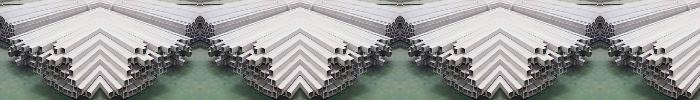pipe: (327, 57, 332, 64), (324, 79, 329, 86), (323, 91, 328, 98), (335, 71, 340, 78), (309, 91, 314, 98), (268, 57, 273, 64), (468, 57, 473, 64), (127, 57, 132, 64), (527, 57, 532, 64), (68, 57, 73, 64), (668, 57, 673, 64), (271, 79, 276, 86), (471, 79, 476, 86), (124, 79, 129, 86), (524, 79, 529, 86), (71, 79, 76, 86), (671, 79, 676, 86), (272, 91, 277, 98), (472, 91, 477, 98), (123, 91, 128, 98), (523, 91, 528, 98), (72, 91, 77, 98), (672, 91, 677, 98), (260, 71, 265, 78), (460, 71, 465, 78), (135, 71, 140, 78), (535, 71, 540, 78), (60, 71, 65, 78), (660, 71, 665, 78), (286, 91, 291, 98), (486, 91, 491, 98), (109, 91, 114, 98), (509, 91, 514, 98), (86, 91, 91, 98), (686, 91, 691, 98), (319, 87, 323, 95), (277, 87, 281, 95), (477, 87, 481, 95), (119, 87, 123, 95), (519, 87, 523, 95), (77, 87, 81, 95), (677, 87, 681, 95), (335, 47, 339, 54), (345, 59, 349, 66), (327, 70, 331, 77), (329, 78, 333, 85), (328, 90, 332, 97), (338, 85, 342, 92), (261, 47, 265, 54), (461, 47, 465, 54), (135, 47, 139, 54), (535, 47, 539, 54), (61, 47, 65, 54), (661, 47, 665, 54), (251, 59, 255, 66), (451, 59, 455, 66), (145, 59, 149, 66), (545, 59, 549, 66), (51, 59, 55, 66), (651, 59, 655, 66), (269, 70, 273, 77), (469, 70, 473, 77), (127, 70, 131, 77), (527, 70, 531, 77), (69, 70, 73, 77), (669, 70, 673, 77), (267, 78, 271, 85), (467, 78, 471, 85), (129, 78, 133, 85), (529, 78, 533, 85), (67, 78, 71, 85), (667, 78, 671, 85), (268, 90, 272, 97), (468, 90, 472, 97), (128, 90, 132, 97), (528, 90, 532, 97), (68, 90, 72, 97), (668, 90, 672, 97), (258, 85, 262, 92), (458, 85, 462, 92), (138, 85, 142, 92), (538, 85, 542, 92), (58, 85, 62, 92), (658, 85, 662, 92), (333, 57, 337, 63), (328, 65, 332, 71), (323, 86, 327, 92), (333, 88, 337, 94), (342, 83, 346, 89), (349, 79, 353, 85), (343, 74, 347, 80), (344, 45, 348, 51), (350, 59, 354, 65), (263, 57, 267, 63), (463, 57, 467, 63), (133, 57, 137, 63), (533, 57, 537, 63), (63, 57, 67, 63), (663, 57, 667, 63), (268, 65, 272, 71), (468, 65, 472, 71), (128, 65, 132, 71), (528, 65, 532, 71), (68, 65, 72, 71), (668, 65, 672, 71), (273, 86, 277, 92), (473, 86, 477, 92), (123, 86, 127, 92), (523, 86, 527, 92), (73, 86, 77, 92), (673, 86, 677, 92), (263, 88, 267, 94), (463, 88, 467, 94), (133, 88, 137, 94), (533, 88, 537, 94), (63, 88, 67, 94), (663, 88, 667, 94), (254, 83, 258, 89), (454, 83, 458, 89), (142, 83, 146, 89), (542, 83, 546, 89), (54, 83, 58, 89), (654, 83, 658, 89), (247, 79, 251, 85), (447, 79, 451, 85), (149, 79, 153, 85), (549, 79, 553, 85), (47, 79, 51, 85), (647, 79, 651, 85), (253, 74, 257, 80), (453, 74, 457, 80), (143, 74, 147, 80), (543, 74, 547, 80), (53, 74, 57, 80), (653, 74, 657, 80), (252, 45, 256, 51), (452, 45, 456, 51), (144, 45, 148, 51), (544, 45, 548, 51), (52, 45, 56, 51), (652, 45, 656, 51), (246, 59, 250, 65), (446, 59, 450, 65), (150, 59, 154, 65), (550, 59, 554, 65), (46, 59, 50, 65), (646, 59, 650, 65), (339, 68, 342, 75), (358, 56, 361, 63), (364, 55, 367, 62), (258, 68, 261, 75), (458, 68, 461, 75), (139, 68, 142, 75), (539, 68, 542, 75), (58, 68, 61, 75), (658, 68, 661, 75), (239, 56, 242, 63), (439, 56, 442, 63), (158, 56, 161, 63), (558, 56, 561, 63), (39, 56, 42, 63), (639, 56, 642, 63), (233, 55, 236, 62), (433, 55, 436, 62), (164, 55, 167, 62), (564, 55, 567, 62), (33, 55, 36, 62), (633, 55, 636, 62), (349, 65, 353, 70), (247, 65, 251, 70), (447, 65, 451, 70), (149, 65, 153, 70), (549, 65, 553, 70), (47, 65, 51, 70), (647, 65, 651, 70), (342, 67, 345, 73), (346, 65, 349, 71), (346, 70, 349, 76), (351, 70, 354, 76), (353, 77, 356, 83), (358, 46, 361, 52), (359, 62, 362, 68), (360, 68, 363, 74), (366, 61, 369, 67), (368, 47, 371, 53), (389, 52, 392, 58), (255, 67, 258, 73), (455, 67, 458, 73), (142, 67, 145, 73), (542, 67, 545, 73), (55, 67, 58, 73), (655, 67, 658, 73), (251, 65, 254, 71), (451, 65, 454, 71), (146, 65, 149, 71), (546, 65, 549, 71), (51, 65, 54, 71), (651, 65, 654, 71), (251, 70, 254, 76), (451, 70, 454, 76), (146, 70, 149, 76), (546, 70, 549, 76), (51, 70, 54, 76), (651, 70, 654, 76), (246, 70, 249, 76), (446, 70, 449, 76), (151, 70, 154, 76), (551, 70, 554, 76), (46, 70, 49, 76), (646, 70, 649, 76), (244, 77, 247, 83), (444, 77, 447, 83), (153, 77, 156, 83), (553, 77, 556, 83), (44, 77, 47, 83), (644, 77, 647, 83), (239, 46, 242, 52), (439, 46, 442, 52), (158, 46, 161, 52), (558, 46, 561, 52), (39, 46, 42, 52), (639, 46, 642, 52), (238, 62, 241, 68), (438, 62, 441, 68), (159, 62, 162, 68), (559, 62, 562, 68), (38, 62, 41, 68), (638, 62, 641, 68), (237, 68, 240, 74), (437, 68, 440, 74), (160, 68, 163, 74), (560, 68, 563, 74), (37, 68, 40, 74), (637, 68, 640, 74), (231, 61, 234, 67), (431, 61, 434, 67), (166, 61, 169, 67), (566, 61, 569, 67), (31, 61, 34, 67), (631, 61, 634, 67), (229, 47, 232, 53), (429, 47, 432, 53), (168, 47, 171, 53), (568, 47, 571, 53), (29, 47, 32, 53), (629, 47, 632, 53), (208, 52, 211, 58), (408, 52, 411, 58), (189, 52, 192, 58), (589, 52, 592, 58), (8, 52, 11, 58), (608, 52, 611, 58), (342, 49, 346, 53), (335, 62, 339, 66), (254, 49, 258, 53), (142, 49, 146, 53), (542, 49, 546, 53), (54, 49, 58, 53), (654, 49, 658, 53), (261, 62, 265, 66), (461, 62, 465, 66), (135, 62, 139, 66), (535, 62, 539, 66), (61, 62, 65, 66), (661, 62, 665, 66), (345, 81, 348, 86), (331, 73, 334, 78), (353, 68, 356, 73), (354, 73, 357, 78), (364, 67, 367, 72), (369, 61, 372, 66), (383, 61, 386, 66), (376, 47, 379, 52), (383, 45, 386, 50), (377, 55, 380, 60), (392, 26, 395, 31), (395, 29, 398, 34), (252, 81, 255, 86), (452, 81, 455, 86), (145, 81, 148, 86), (545, 81, 548, 86), (52, 81, 55, 86), (652, 81, 655, 86), (266, 73, 269, 78), (466, 73, 469, 78), (131, 73, 134, 78), (531, 73, 534, 78), (66, 73, 69, 78), (666, 73, 669, 78), (244, 68, 247, 73), (444, 68, 447, 73), (153, 68, 156, 73), (553, 68, 556, 73), (44, 68, 47, 73), (644, 68, 647, 73), (243, 73, 246, 78), (443, 73, 446, 78), (154, 73, 157, 78), (554, 73, 557, 78), (43, 73, 46, 78), (643, 73, 646, 78), (233, 67, 236, 72), (433, 67, 436, 72), (164, 67, 167, 72), (564, 67, 567, 72), (33, 67, 36, 72), (633, 67, 636, 72), (228, 61, 231, 66), (428, 61, 431, 66), (169, 61, 172, 66), (569, 61, 572, 66), (28, 61, 31, 66), (628, 61, 631, 66), (214, 61, 217, 66), (414, 61, 417, 66), (183, 61, 186, 66), (583, 61, 586, 66), (14, 61, 17, 66), (614, 61, 617, 66), (221, 47, 224, 52), (421, 47, 424, 52), (176, 47, 179, 52), (576, 47, 579, 52), (21, 47, 24, 52), (621, 47, 624, 52), (214, 45, 217, 50), (414, 45, 417, 50), (183, 45, 186, 50), (583, 45, 586, 50), (14, 45, 17, 50), (614, 45, 617, 50), (220, 55, 223, 60), (420, 55, 423, 60), (177, 55, 180, 60), (577, 55, 580, 60), (20, 55, 23, 60), (620, 55, 623, 60), (205, 26, 208, 31), (405, 26, 408, 31), (192, 26, 195, 31), (592, 26, 595, 31), (5, 26, 8, 31), (605, 26, 608, 31), (202, 29, 205, 34), (402, 29, 405, 34), (195, 29, 198, 34), (595, 29, 598, 34), (2, 29, 5, 34), (602, 29, 605, 34), (360, 51, 363, 55), (374, 60, 377, 64), (392, 22, 395, 26), (455, 49, 458, 53), (237, 51, 240, 55), (437, 51, 440, 55), (160, 51, 163, 55), (560, 51, 563, 55), (37, 51, 40, 55), (637, 51, 640, 55), (223, 60, 226, 64), (423, 60, 426, 64), (174, 60, 177, 64), (574, 60, 577, 64), (23, 60, 26, 64), (623, 60, 626, 64), (205, 22, 208, 26), (405, 22, 408, 26), (192, 22, 195, 26), (592, 22, 595, 26), (5, 22, 8, 26), (605, 22, 608, 26), (390, 39, 392, 44), (208, 39, 210, 44), (408, 39, 410, 44), (190, 39, 192, 44), (590, 39, 592, 44), (8, 39, 10, 44), (608, 39, 610, 44), (379, 39, 382, 42), (218, 39, 221, 42), (418, 39, 421, 42), (179, 39, 182, 42), (579, 39, 582, 42), (18, 39, 21, 42), (618, 39, 621, 42), (387, 47, 389, 51), (385, 40, 387, 44), (386, 25, 388, 29), (393, 38, 395, 42), (391, 25, 393, 29), (395, 19, 397, 23), (396, 17, 398, 21), (395, 26, 397, 30), (211, 47, 213, 51), (411, 47, 413, 51), (187, 47, 189, 51), (587, 47, 589, 51), (11, 47, 13, 51), (611, 47, 613, 51), (213, 40, 215, 44), (413, 40, 415, 44), (185, 40, 187, 44), (585, 40, 587, 44), (13, 40, 15, 44), (613, 40, 615, 44), (212, 25, 214, 29), (412, 25, 414, 29), (186, 25, 188, 29), (586, 25, 588, 29), (12, 25, 14, 29), (612, 25, 614, 29), (205, 38, 207, 42), (405, 38, 407, 42), (193, 38, 195, 42), (593, 38, 595, 42), (5, 38, 7, 42), (605, 38, 607, 42), (207, 25, 209, 29), (407, 25, 409, 29), (191, 25, 193, 29), (591, 25, 593, 29), (7, 25, 9, 29), (607, 25, 609, 29), (203, 19, 205, 23), (403, 19, 405, 23), (195, 19, 197, 23), (595, 19, 597, 23), (3, 19, 5, 23), (603, 19, 605, 23), (202, 17, 204, 21), (402, 17, 404, 21), (196, 17, 198, 21), (596, 17, 598, 21), (2, 17, 4, 21), (602, 17, 604, 21), (203, 26, 205, 30), (403, 26, 405, 30), (195, 26, 197, 30), (595, 26, 597, 30), (3, 26, 5, 30), (603, 26, 605, 30), (386, 29, 388, 32), (385, 33, 387, 36), (389, 25, 391, 28), (395, 38, 397, 41), (397, 37, 399, 40), (390, 35, 392, 38), (391, 31, 393, 34), (398, 16, 400, 19), (393, 35, 395, 38), (395, 34, 397, 37), (397, 34, 399, 37), (212, 29, 214, 32), (412, 29, 414, 32), (186, 29, 188, 32), (586, 29, 588, 32), (12, 29, 14, 32), (612, 29, 614, 32), (213, 33, 215, 36), (413, 33, 415, 36), (185, 33, 187, 36), (585, 33, 587, 36), (13, 33, 15, 36), (613, 33, 615, 36), (209, 25, 211, 28), (409, 25, 411, 28), (189, 25, 191, 28), (589, 25, 591, 28), (9, 25, 11, 28), (609, 25, 611, 28), (203, 38, 205, 41), (403, 38, 405, 41), (195, 38, 197, 41), (595, 38, 597, 41), (3, 38, 5, 41), (603, 38, 605, 41), (201, 37, 203, 40), (401, 37, 403, 40), (197, 37, 199, 40), (597, 37, 599, 40), (1, 37, 3, 40), (601, 37, 603, 40), (208, 35, 210, 38), (408, 35, 410, 38), (190, 35, 192, 38), (590, 35, 592, 38), (8, 35, 10, 38), (608, 35, 610, 38), (207, 31, 209, 34), (407, 31, 409, 34), (191, 31, 193, 34), (591, 31, 593, 34), (7, 31, 9, 34), (607, 31, 609, 34), (200, 16, 202, 19), (400, 16, 402, 19), (198, 16, 200, 19), (598, 16, 600, 19), (0, 16, 2, 19), (600, 16, 602, 19), (205, 35, 207, 38), (405, 35, 407, 38), (193, 35, 195, 38), (593, 35, 595, 38), (5, 35, 7, 38), (605, 35, 607, 38), (203, 34, 205, 37), (403, 34, 405, 37), (195, 34, 197, 37), (595, 34, 597, 37), (3, 34, 5, 37), (603, 34, 605, 37), (201, 34, 203, 37), (401, 34, 403, 37), (197, 34, 199, 37), (597, 34, 599, 37), (1, 34, 3, 37), (601, 34, 603, 37), (388, 29, 389, 32), (392, 39, 393, 42), (211, 29, 212, 32), (411, 29, 412, 32), (188, 29, 189, 32), (588, 29, 589, 32), (11, 29, 12, 32), (611, 29, 612, 32), (207, 39, 208, 42), (407, 39, 408, 42), (192, 39, 193, 42), (592, 39, 593, 42), (7, 39, 8, 42), (607, 39, 608, 42), (388, 33, 389, 35), (399, 37, 400, 39), (211, 33, 212, 35), (411, 33, 412, 35), (188, 33, 189, 35), (588, 33, 589, 35), (11, 33, 12, 35), (611, 33, 612, 35), (200, 37, 201, 39), (400, 37, 401, 39), (199, 37, 200, 39), (599, 37, 600, 39), (0, 37, 1, 39), (600, 37, 601, 39)
